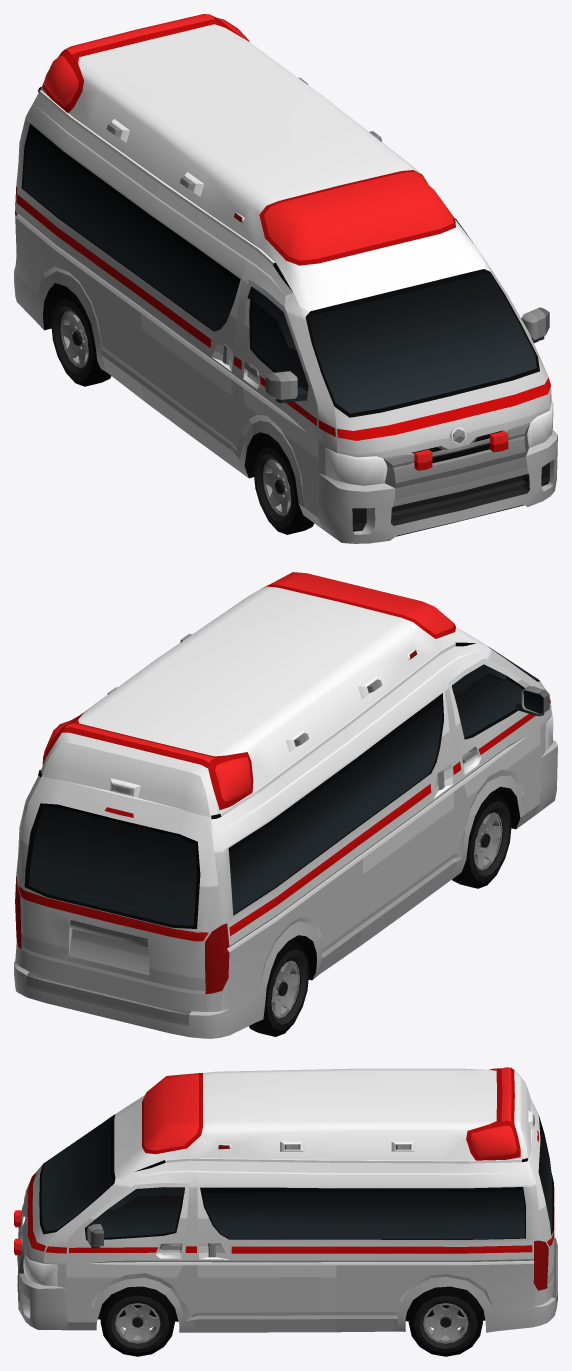
Rendered from Simple_Japanese_Car_V14.fbx.
The picture shows the model from 3 angles, top to bottom: view 1: azimuth 30°, elevation 25°; view 2: azimuth 150°, elevation 25°; view 3: azimuth 270°, elevation 25°; orthographic projection. The views are drawn at different scales.
Parts seen in each view (by area): view 1: Body.001, FR.001, RR.001; view 2: Body.001, FR.001, RR.001; view 3: Body.001, FL.001, RL.001.
Boxes of the visible parts, x1,y1,x2,y2 form: Body.001: [14, 14, 557, 543]; FR.001: [253, 438, 314, 534]; RR.001: [51, 290, 111, 386]; Body.001: [14, 572, 557, 1038]; FR.001: [452, 792, 511, 888]; RR.001: [249, 940, 309, 1036]; Body.001: [14, 1067, 557, 1332]; FL.001: [100, 1286, 174, 1356]; RL.001: [408, 1286, 482, 1356].
Size of the model in its own units: 2.29 by 2.33 by 5.08.
3 materials, 3 textured.
